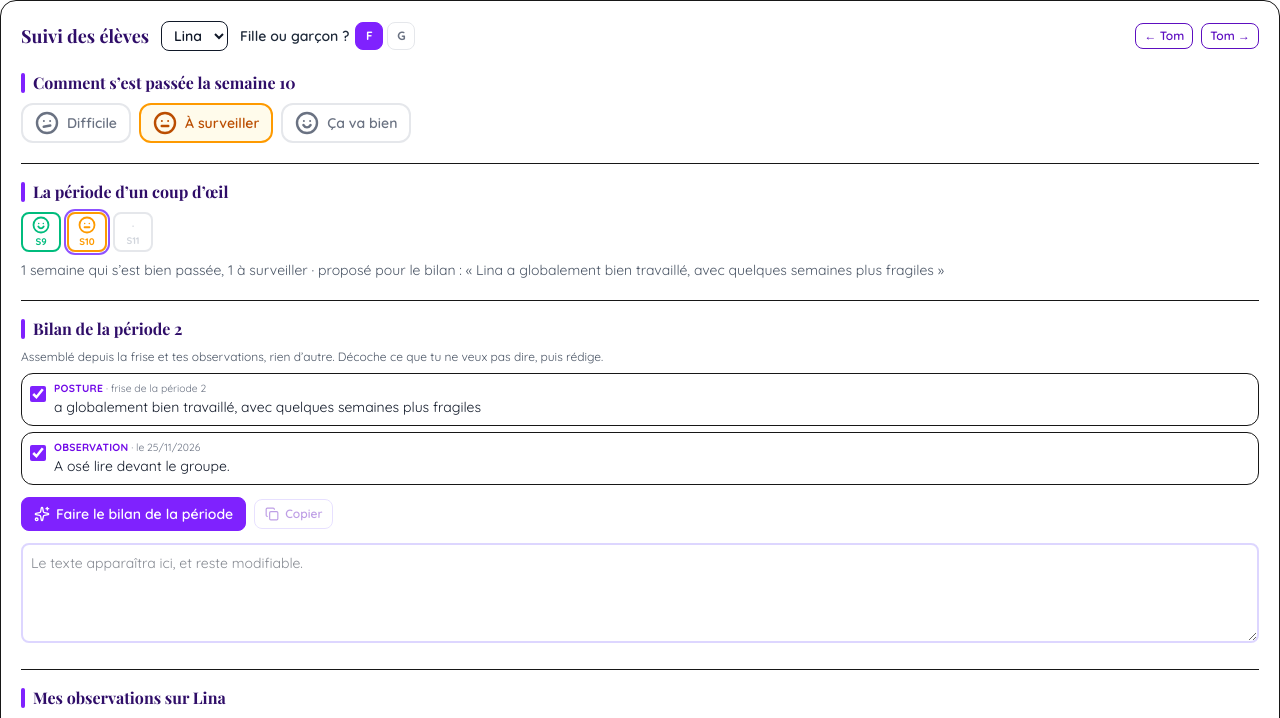
Test: SuiviEleves › remet l’état d’avant quand le serveur refuse
Click the radio button with aria-label "lina, semaine 10 : ça va bien".
click(346, 123)  # box [281,103,411,143]
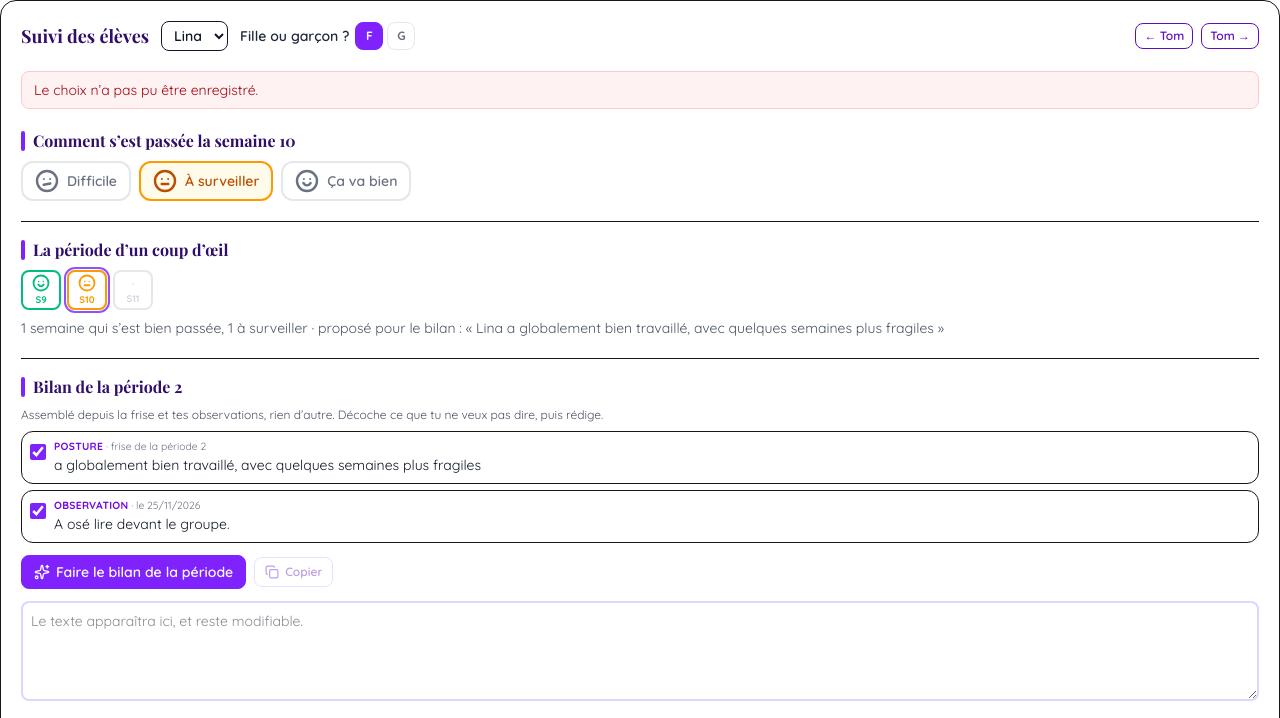
Result: the message shows "n’a pas pu être enregistré" at [34,81,258,99]
